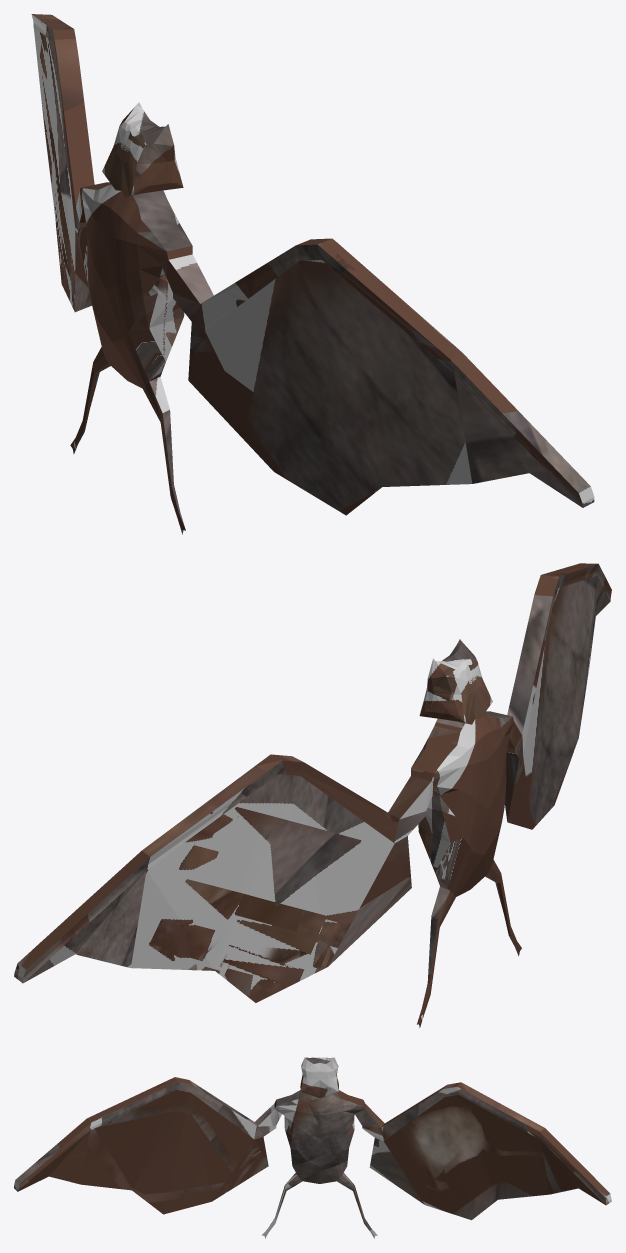
Rendered from Enemigo125.obj.
The picture shows the model from 3 angles, top to bottom: view 1: azimuth 30°, elevation 25°; view 2: azimuth 150°, elevation 25°; view 3: azimuth 270°, elevation 25°; orthographic projection. The views are drawn at different scales.
Parts seen in each view (by area): view 1: Plano; view 2: Plano; view 3: Plano.
Part boxes in pixels (bbox=[...]): Plano: bbox=[31, 14, 594, 534]; Plano: bbox=[14, 563, 611, 1027]; Plano: bbox=[14, 1057, 611, 1238].
Bounding box in the file's own units: 0.5098 × 0.7578 × 2.19.
1 material, 1 textured.
